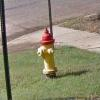Hydrant: (30, 18, 66, 83)
